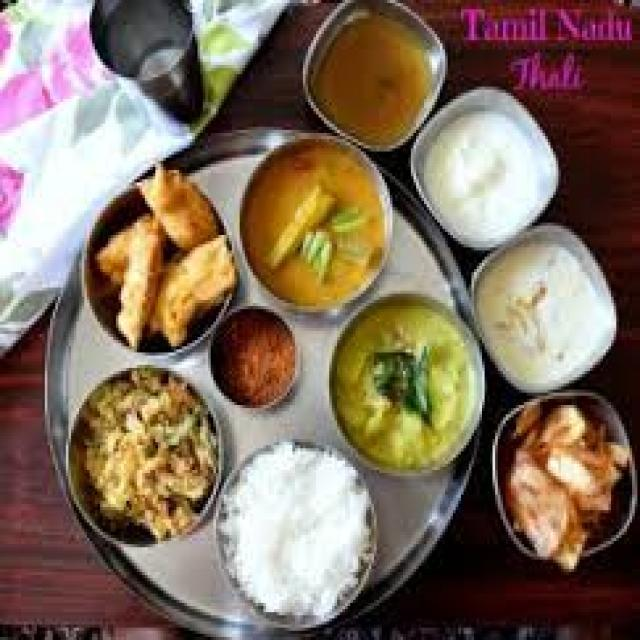curd: (465, 229, 629, 395), (409, 91, 565, 250)
dal: (236, 138, 395, 328), (326, 305, 476, 485), (468, 230, 620, 396), (305, 1, 448, 137)
rice: (211, 440, 382, 625)
sambar-rasam: (304, 0, 447, 139)
sweet: (201, 304, 315, 412)
